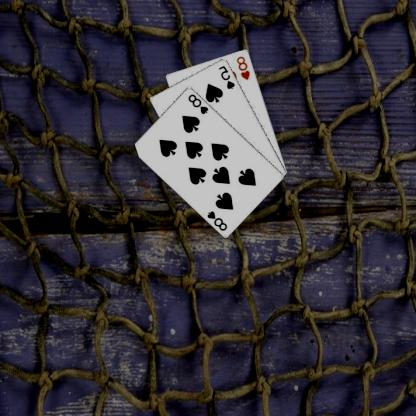5S: (218, 62, 238, 90)
8H: (236, 54, 253, 81)
8S: (188, 91, 212, 115), (206, 208, 230, 232)
